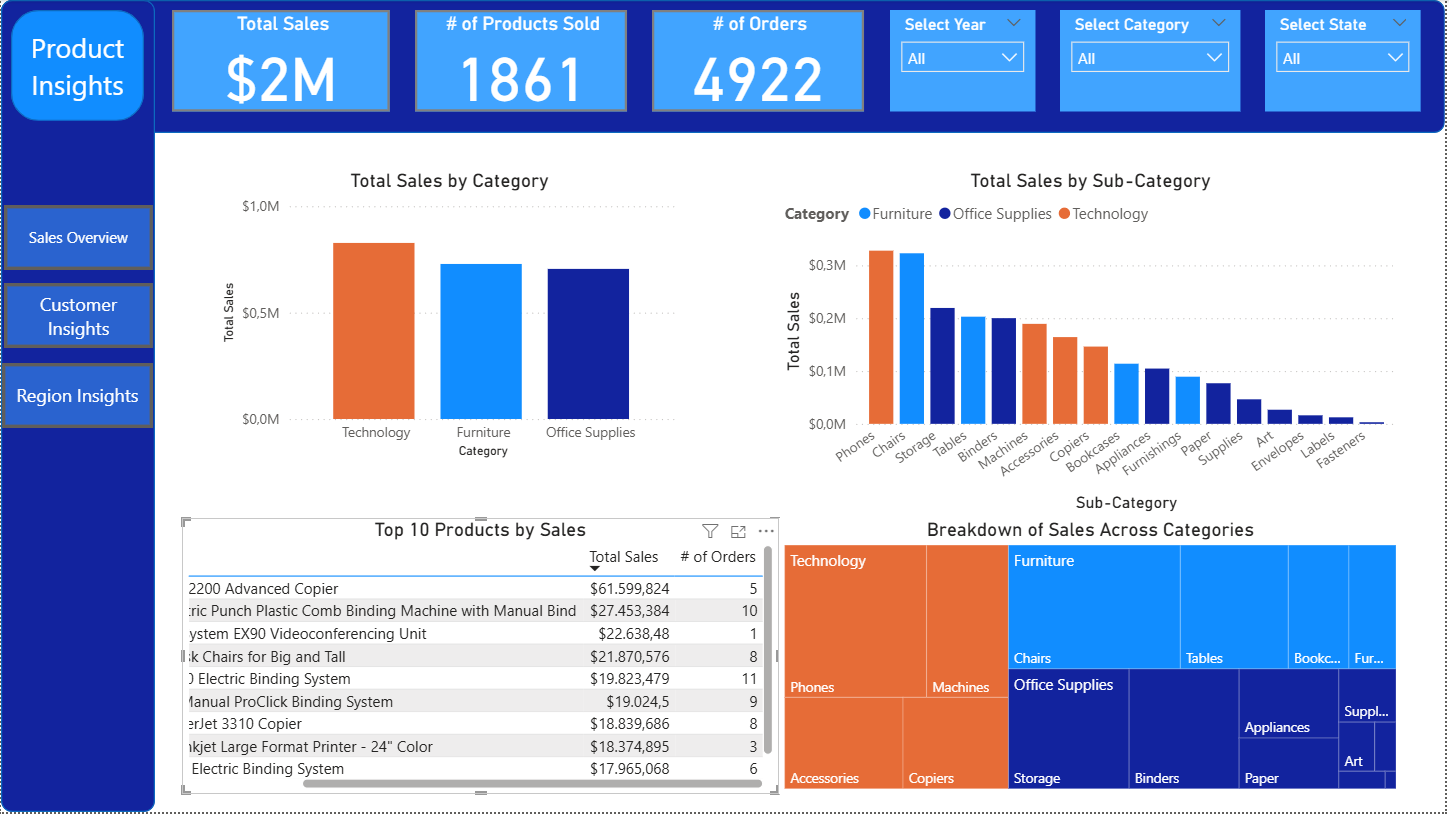

The page's visual inventory and layout, read from the dashboard file:
{"tool":"powerbi","page":{"name":"Product Insights","canvas":[1280,720],"ordinal":1},"visuals":[{"type":"shape","box":[0,0,1280.4,117.9],"z":0},{"type":"shape","box":[0,0.2,136.6,720],"z":1000},{"type":"columnChart","fields":{"Category":["train.Category"],"Y":["train.Total Sales"]},"box":[191.6,149.8,412.4,260.7],"z":2000},{"type":"columnChart","title":"Total Sales by Sub-Category ","fields":{"Category":["train.Sub-Category"],"Y":["train.Total Sales"],"Series":["train.Category"]},"box":[689.6,149.8,552.5,309.3],"z":3000},{"type":"tableEx","title":"Top 10 Products by Sales","fields":{"Values":["train.Product Name","train.Total Sales","train.Order ID"]},"box":[160.5,459.1,529.1,245.1],"z":4000},{"type":"treemap","title":"Breakdown of Sales Across Categories","fields":{"Group":["train.Category"],"Details":["train.Sub-Category"],"Values":["train.Total Sales"]},"box":[689.6,459.1,552.5,245.1],"z":5000},{"type":"actionButton","title":"Product Insights","box":[2.7,181.8,132.1,57.6],"z":6000},{"type":"actionButton","title":"Product Insights","box":[2.7,250.9,132.1,57.6],"z":7000},{"type":"actionButton","title":"Product Insights","box":[0.9,321.9,133.9,57.6],"z":8000},{"type":"shape","box":[8.9,8.9,117.9,98.4],"z":9000},{"type":"card","title":"Total Sales","fields":{"Values":["train.Total Sales"]},"box":[151.6,8.9,193.3,90.4],"z":10000},{"type":"card","title":"# of Products Sold","fields":{"Values":["train.Total Products"]},"box":[367.3,8.9,188,90.4],"z":11000},{"type":"card","title":"# of Orders","fields":{"Values":["train.Total Orders"]},"box":[577.6,8.9,188,90.4],"z":12000},{"type":"slicer","fields":{"Values":["train.Year"]},"box":[787.9,8.9,128.6,90.4],"z":13000},{"type":"slicer","fields":{"Values":["train.Category"]},"box":[938.8,8.9,159.6,90.4],"z":14000},{"type":"slicer","fields":{"Values":["train.State"]},"box":[1120.8,8.9,138.3,90.4],"z":15000}]}

Visuals, with their boxes in screenshot pixels (x1, y1, x2, y2), scaled from the page's 1280x720 canvas onto the 1449x816 screenshot:
shape: 0, 0, 1448, 134
shape: 0, 0, 155, 815
columnChart - train.Category x train.Total Sales: 217, 170, 684, 465
"Total Sales by Sub-Category " columnChart: 781, 170, 1406, 520
"Top 10 Products by Sales" tableEx: 182, 520, 781, 798
"Breakdown of Sales Across Categories" treemap: 781, 520, 1406, 798
"Product Insights" actionButton: 3, 206, 153, 271
"Product Insights" actionButton: 3, 284, 153, 350
"Product Insights" actionButton: 1, 365, 153, 430
shape: 10, 10, 144, 122
"Total Sales" card: 172, 10, 390, 113
"# of Products Sold" card: 416, 10, 629, 113
"# of Orders" card: 654, 10, 867, 113
slicer - train.Year: 892, 10, 1038, 113
slicer - train.Category: 1063, 10, 1243, 113
slicer - train.State: 1269, 10, 1425, 113
